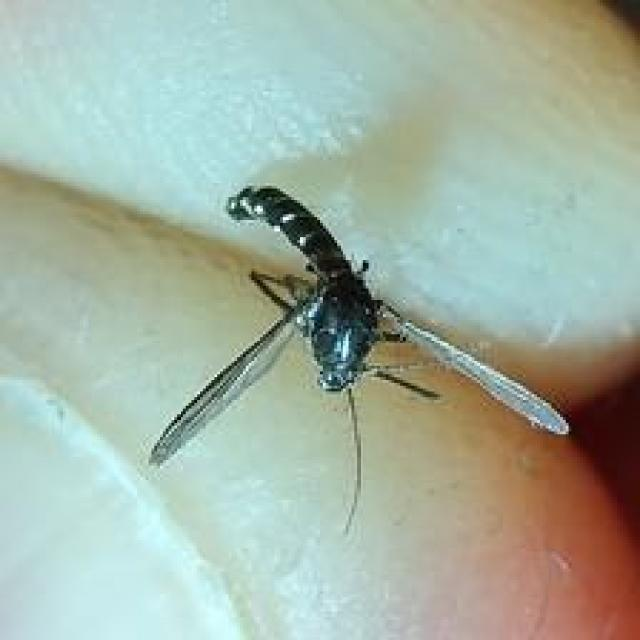Aedes albopictus: (146, 183, 571, 534)
